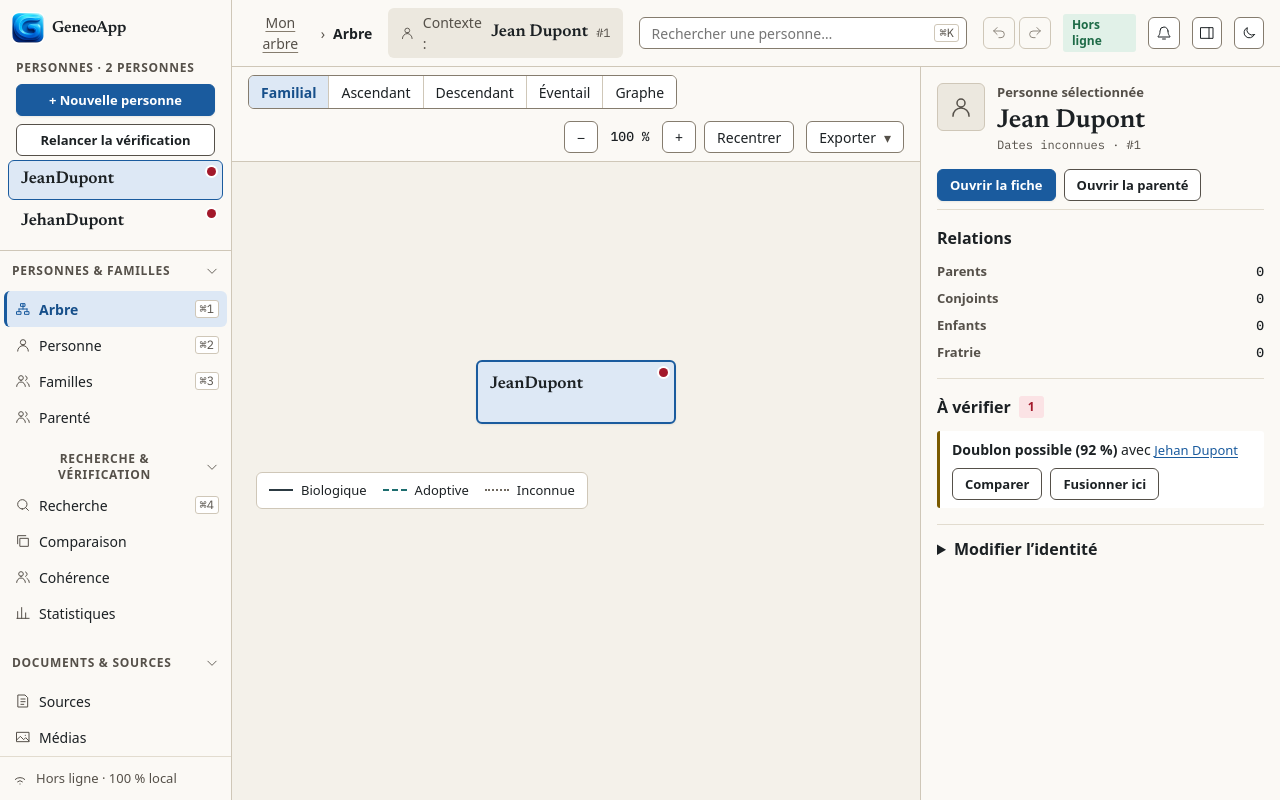
Test: App › fusionne un doublon via le client API et rafraîchit la liste réelle
This screenshot has width=1280, height=800.
Check: the text "2 personnes" is shown, box [106, 59, 195, 76]
Step 1. Click the button "Fusionner ici" → (1105, 484), box [1050, 468, 1159, 500]
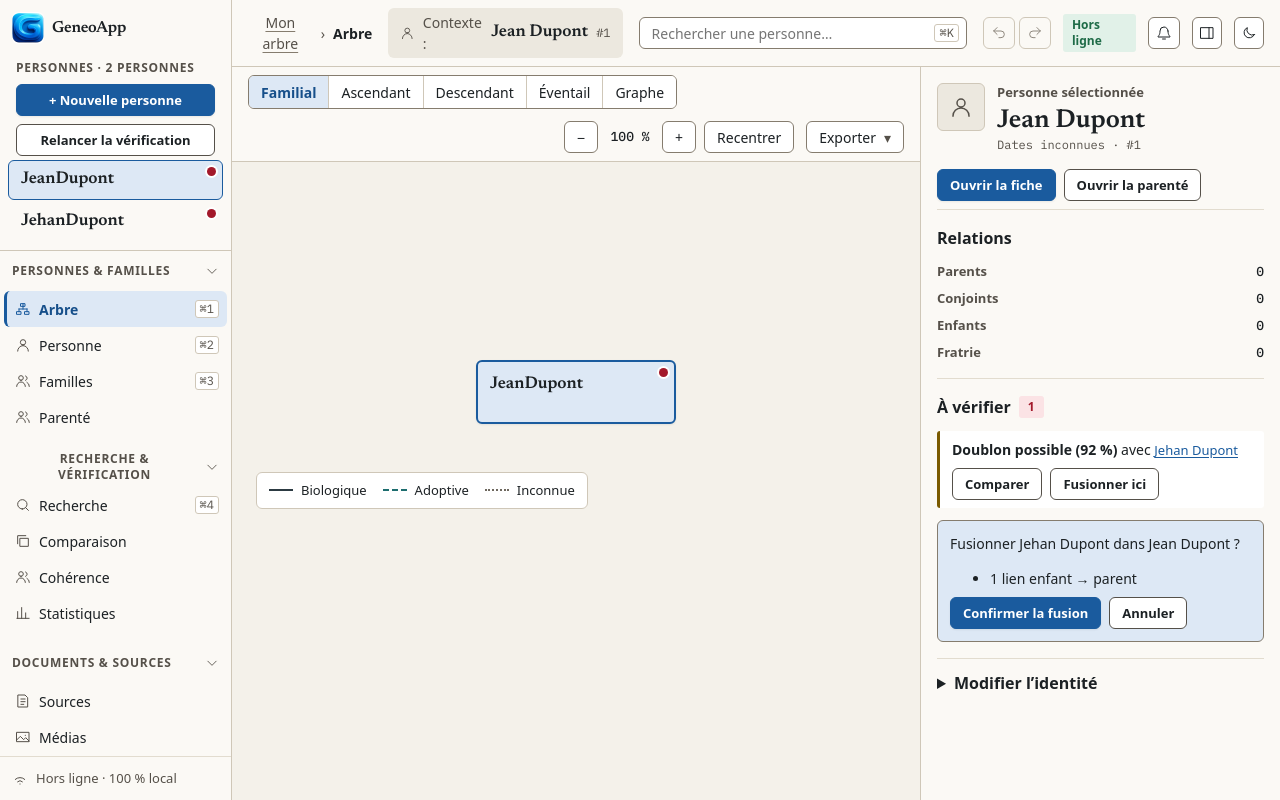
Check: the list item "1 lien enfant → parent" is shown, box [990, 569, 1137, 588]
Step 2. Click the button "Confirmer la fusion" → (1026, 613), box [950, 597, 1101, 629]
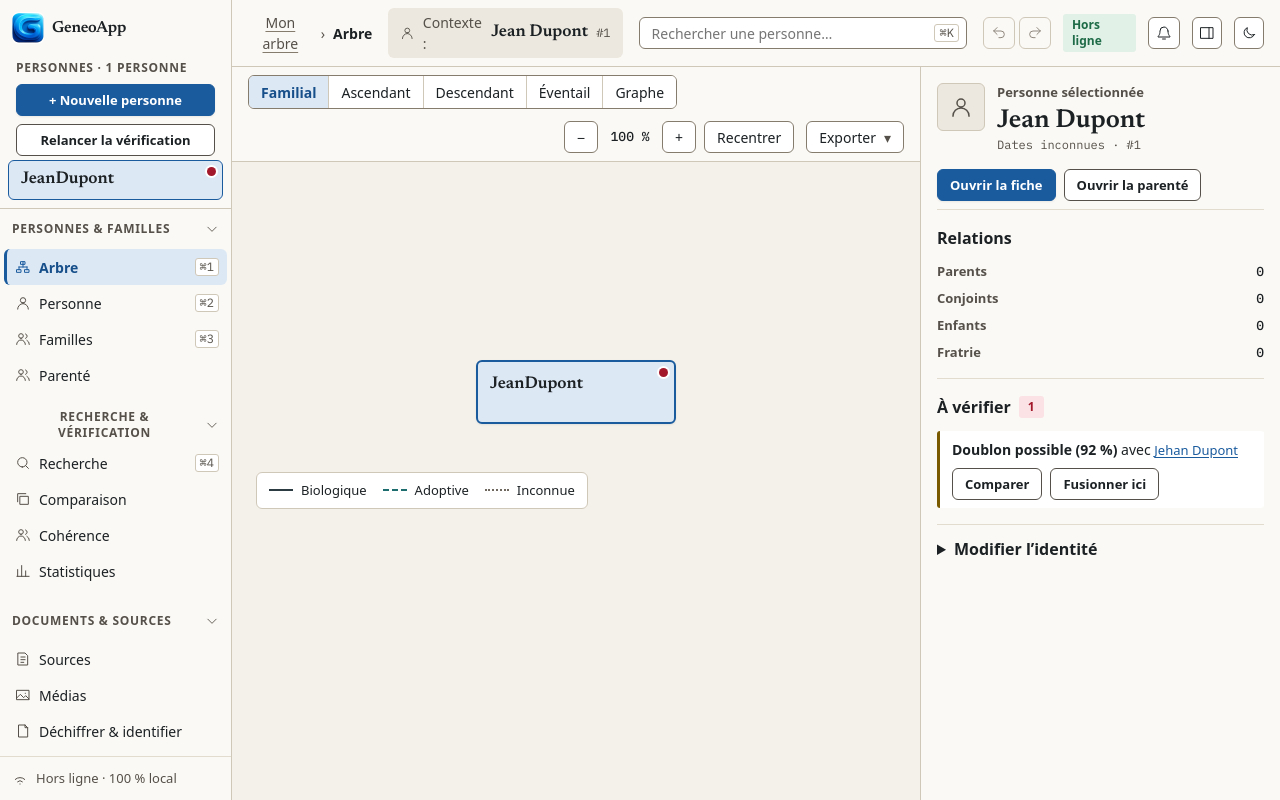
Check: the text "1 personne" is shown, box [106, 59, 187, 76]
